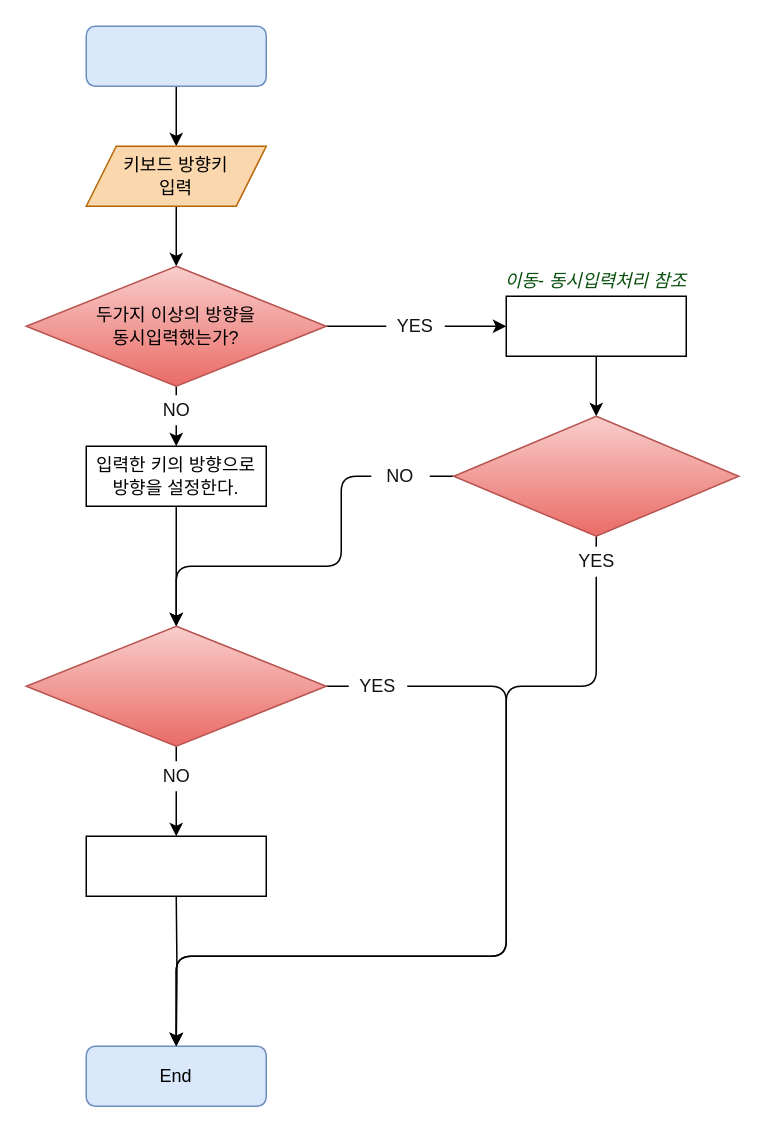
The diagram is 765 pixels wide and 1133 high, and some of its shapes have lost their labels. Here are the shapes that lost their labels. From the top down, the centre of each, then its label:
At pixel 175 55: "Start".
At pixel 595 325: "입력한 키에 따라서 방향을 설정한다.".
At pixel 595 475: "중복입력으로 이동이 무효되었는가?".
At pixel 175 685: "해당 방향에 이동을 방해할 충돌체가 있는가?".
At pixel 175 865: "캐릭터가 이동한다".
